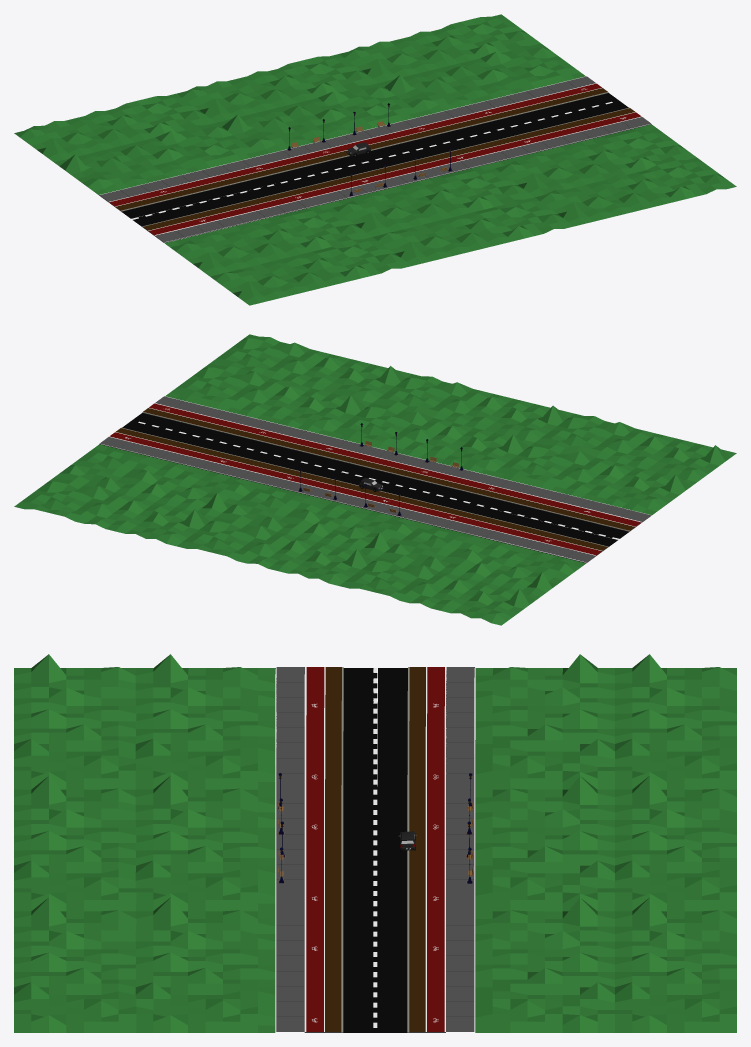
The model's file is Golf5.glb.
3 renders of one model, top to bottom at view 1: azimuth 30°, elevation 25°; view 2: azimuth 150°, elevation 25°; view 3: azimuth 270°, elevation 25°, orthographic. The views are drawn at different scales.
Parts seen in each view (by area): view 1: Ground; view 2: Ground; view 3: Ground.
Part boxes in pixels (x1,y1,x2,y2): Ground: [14, 14, 736, 305]; Ground: [14, 334, 736, 625]; Ground: [14, 654, 736, 1032].
Size of the model in its own units: 110 by 5.16 by 92.14.
